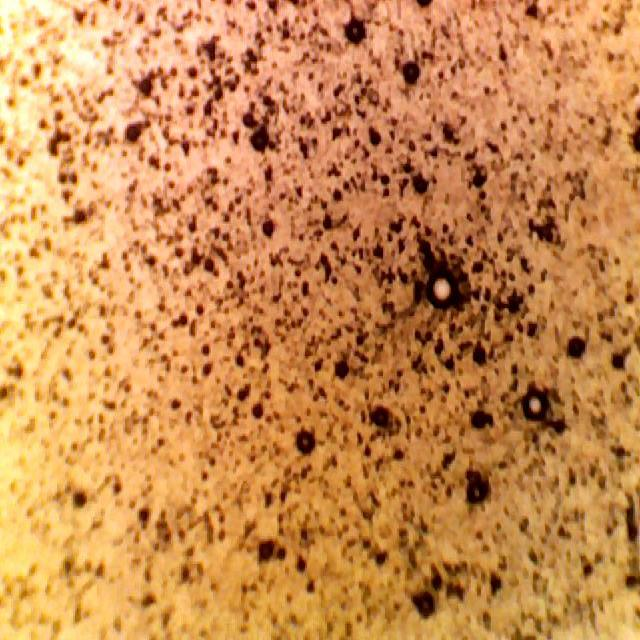bead: (425, 266, 460, 310), (520, 386, 551, 424)
